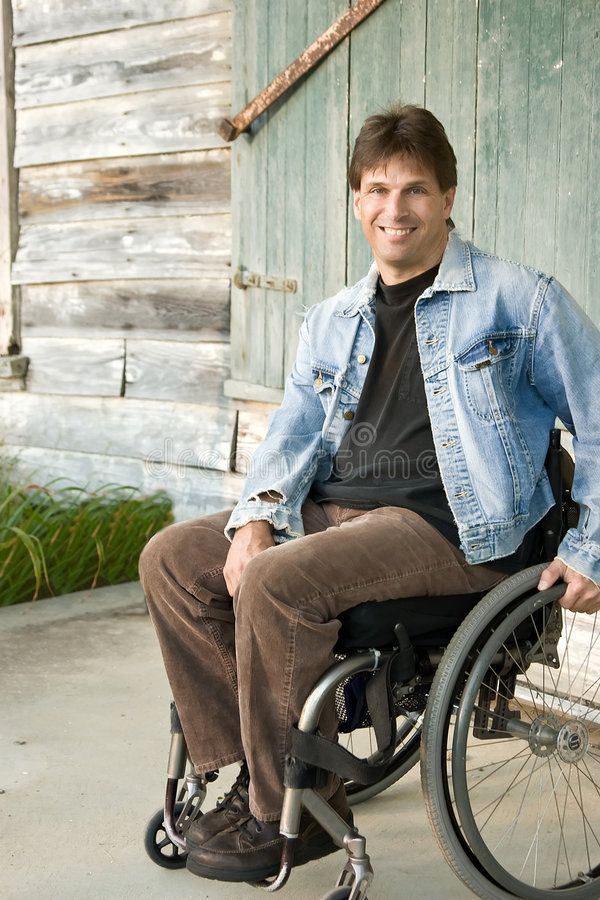wheelchair: (136, 107, 600, 900)
